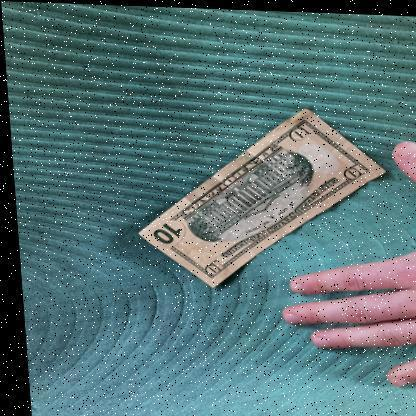ten-back: (133, 104, 383, 286)
